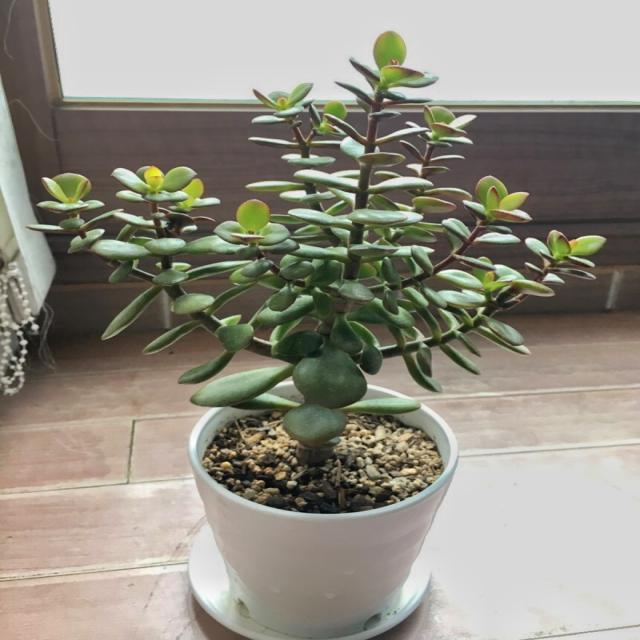Crassula: (283, 32, 414, 465), (364, 209, 604, 392), (32, 166, 233, 352), (340, 108, 495, 312), (215, 180, 353, 288), (253, 85, 343, 172)
